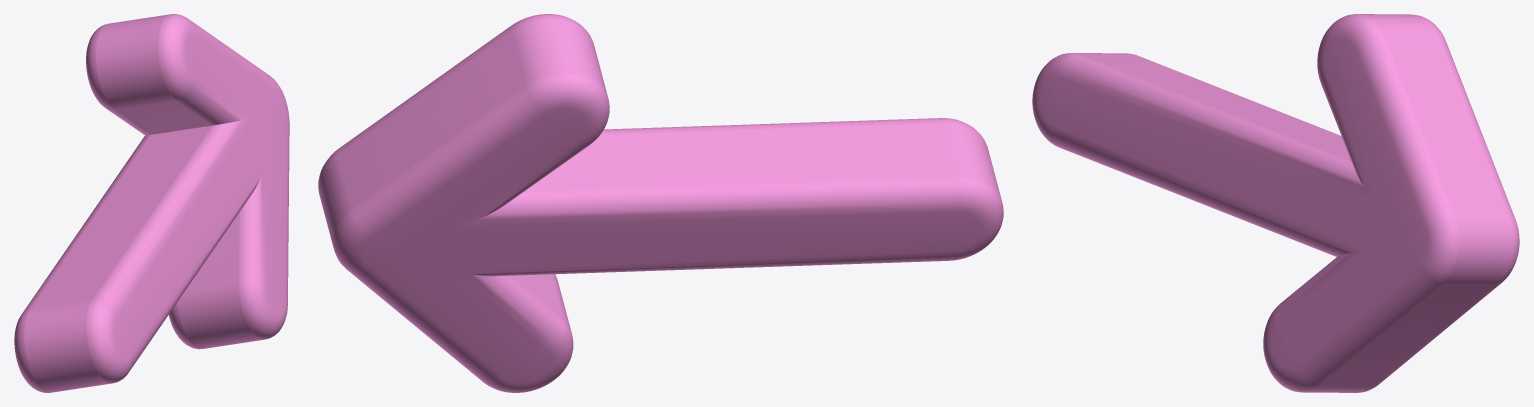
The model's file is simple_arrow.glb.
The picture shows the model from 3 angles, left to right: view 1: azimuth 30°, elevation 25°; view 2: azimuth 150°, elevation 25°; view 3: azimuth 270°, elevation 25°; orthographic projection. The views are drawn at different scales.
Visible parts, largest first — view 1: AdobeIllustratorMesh1; view 2: AdobeIllustratorMesh1; view 3: AdobeIllustratorMesh1.
Boxes of the visible parts, x1,y1,x2,y2 form: AdobeIllustratorMesh1: [14, 14, 289, 392]; AdobeIllustratorMesh1: [318, 14, 1003, 392]; AdobeIllustratorMesh1: [1032, 14, 1519, 392].
Bounding box in the file's own units: 5.74 × 4.28 × 5.29.
